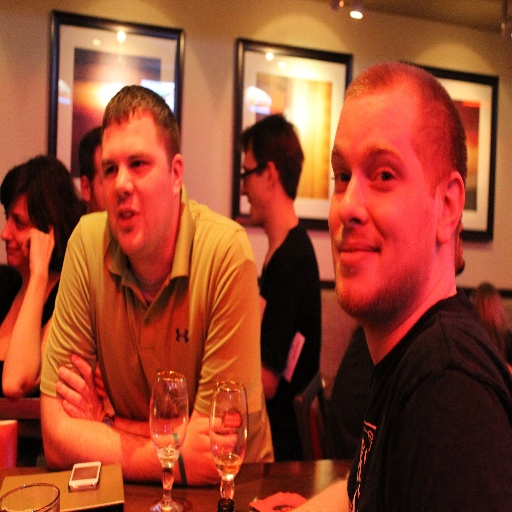hand: (174, 415, 239, 485), (46, 352, 87, 430), (20, 222, 56, 272)
